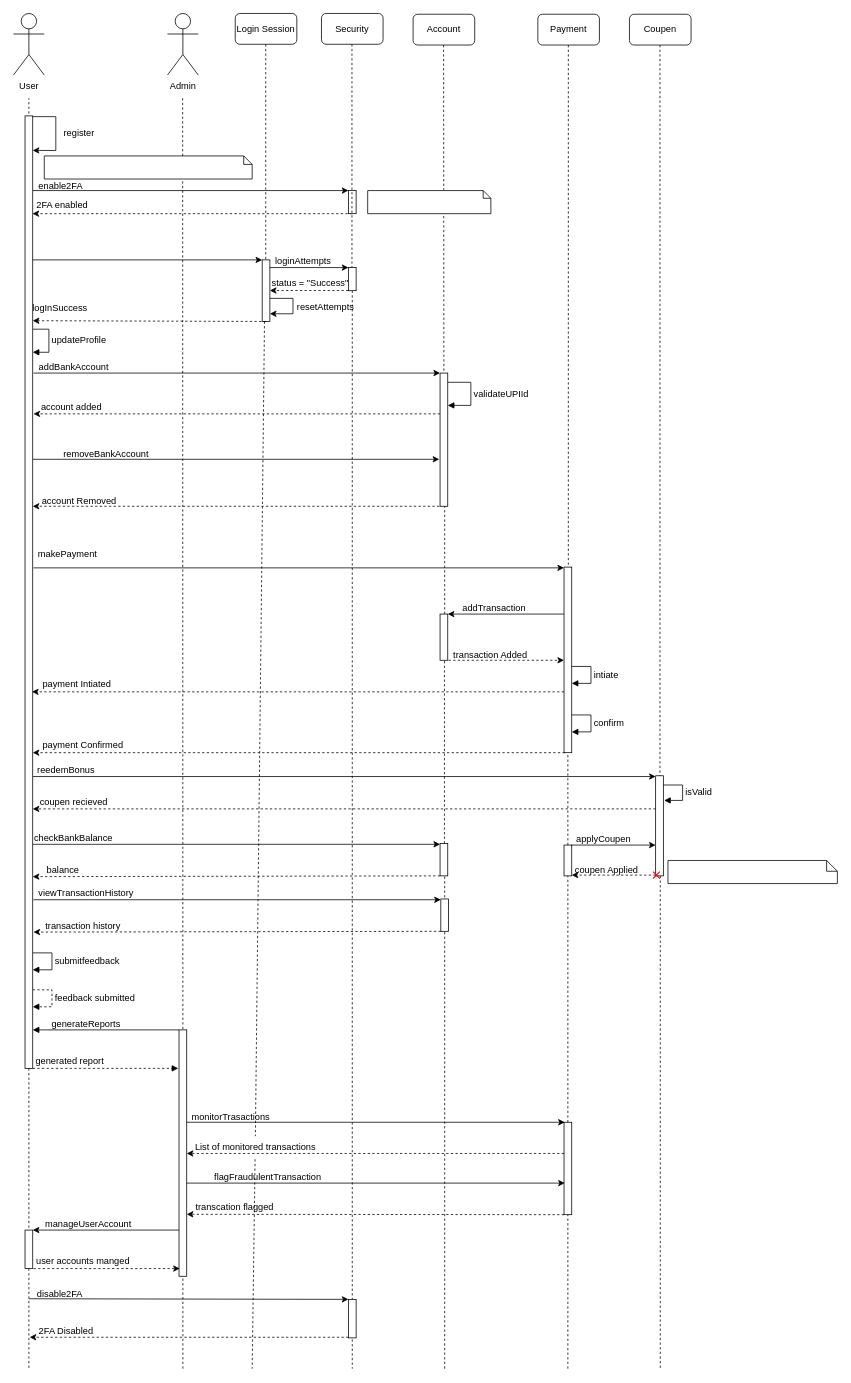
Some shapes in this 851 by 1383 pixel diagram are drawn without their labels. Each missing label, with the centre of its shape:
Coupon destroyed after application: (752,872)
Creates user with fullName. Password. email. etc.: (148,167)
Sets twoFactorAuth to true: (429,202)
